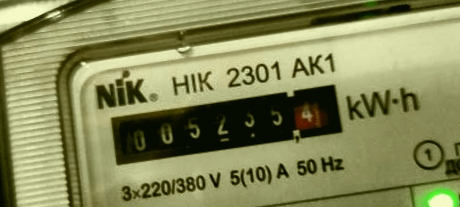0: (129, 125, 147, 152), (157, 120, 175, 146)
2: (211, 109, 230, 137)
3: (237, 102, 257, 129)
4: (295, 95, 316, 126)
5: (265, 98, 284, 128), (184, 114, 201, 140)
screen: (95, 72, 352, 175)
